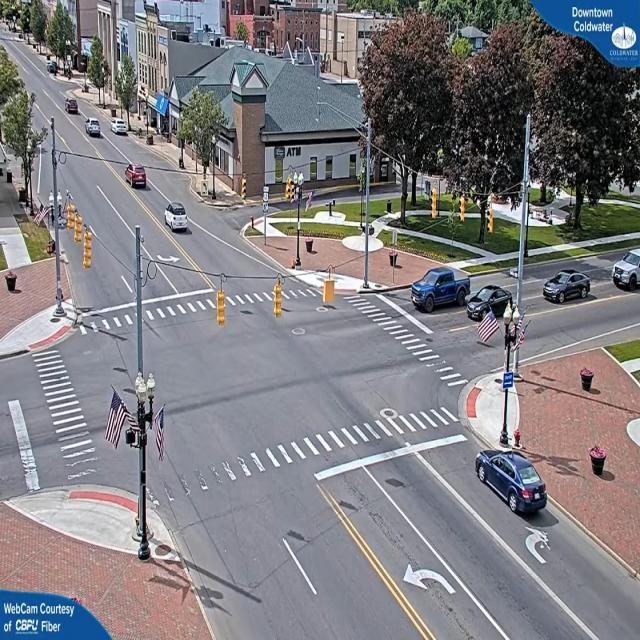car: (479, 451, 549, 515), (410, 266, 470, 311), (468, 283, 514, 323), (544, 268, 594, 304), (611, 250, 640, 291), (164, 205, 190, 235), (124, 163, 150, 190), (112, 120, 130, 138), (86, 118, 102, 138), (64, 98, 78, 114)
